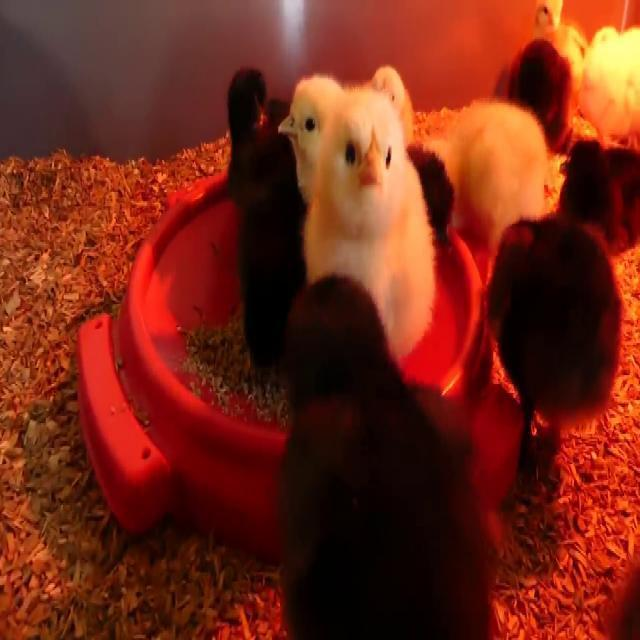poussin: (274, 270, 488, 640), (490, 214, 625, 524), (318, 98, 439, 330), (219, 76, 295, 342), (438, 96, 552, 249), (276, 70, 348, 213), (495, 41, 580, 156), (590, 21, 640, 165), (528, 0, 602, 85)
